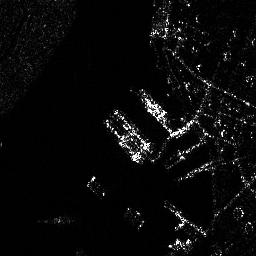ship: (99, 117, 145, 165), (111, 109, 153, 150), (132, 85, 169, 119)
